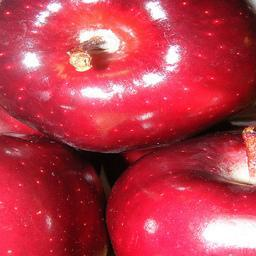apple: (1, 1, 256, 152), (103, 138, 256, 256), (1, 141, 109, 254)
